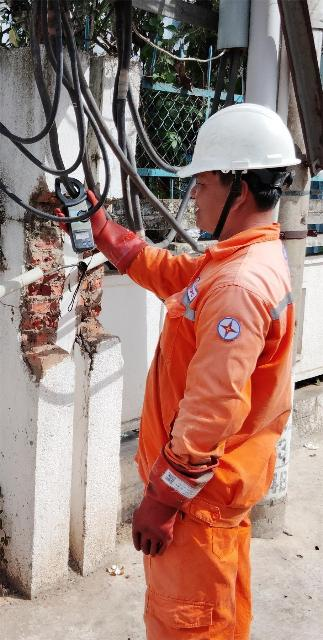gloves: (36, 176, 149, 281), (127, 448, 208, 559)
helmet: (162, 92, 313, 199)
